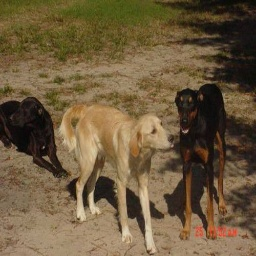dog: (1, 65, 225, 247)
